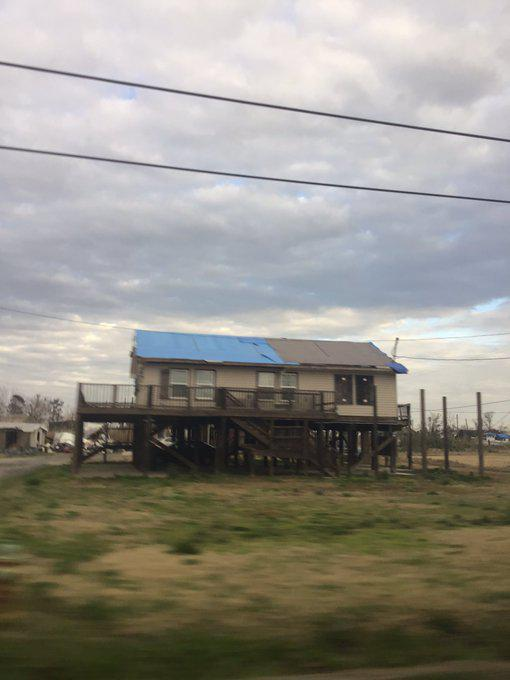minor: (86, 314, 423, 466)
